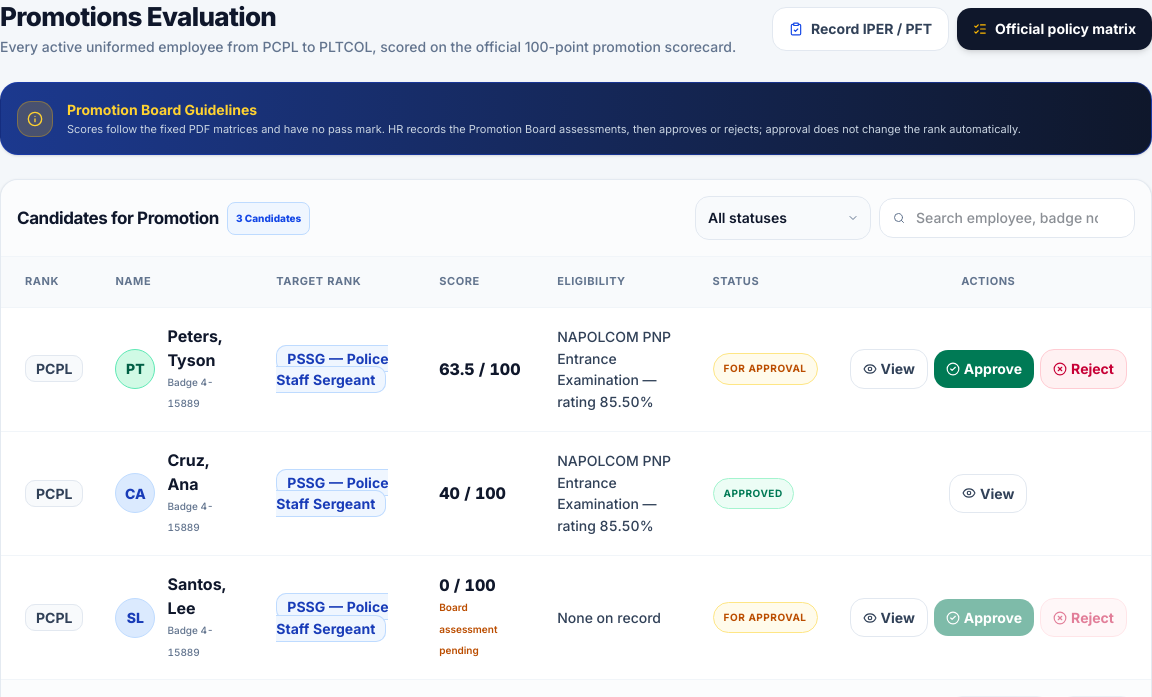
it: StaffPromotions (system-evaluated promotion dashboard) › opens the Record IPER / PFT dialog
The image size is (1152, 697).
Click the button "Record IPER / PFT".
click(860, 29)  # box top-left (772, 7), bottom-right (949, 51)
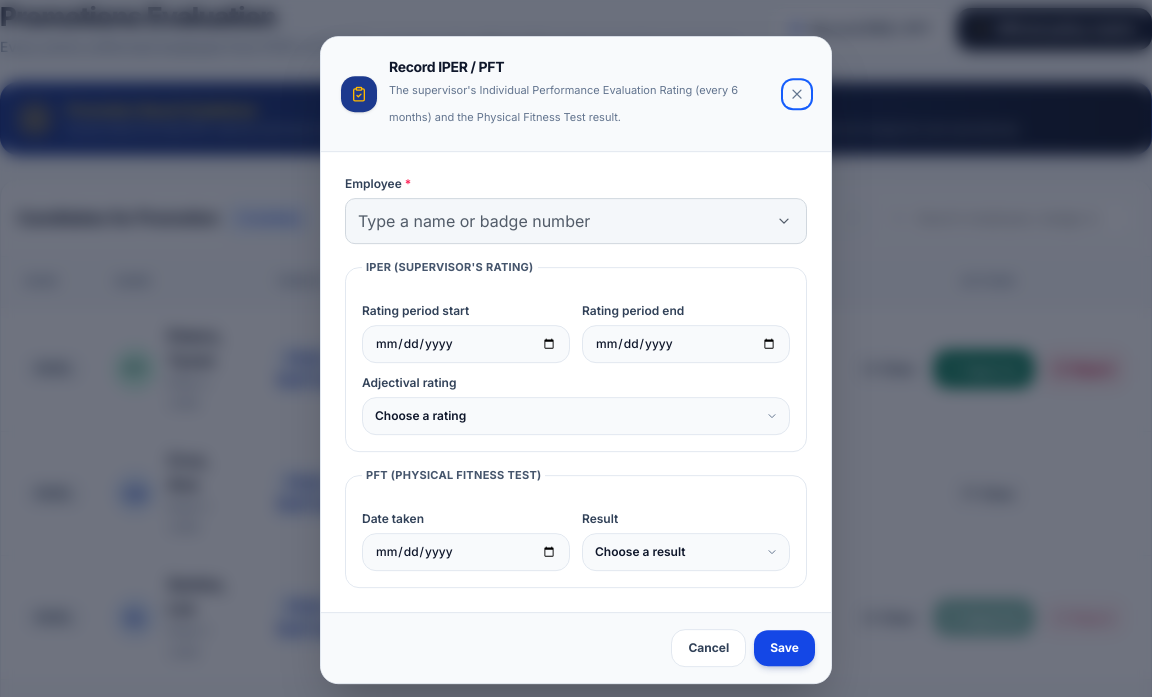
Check: the dropdown labelled "Adjectival rating" is shown, box top-left (362, 397), bottom-right (790, 435)
